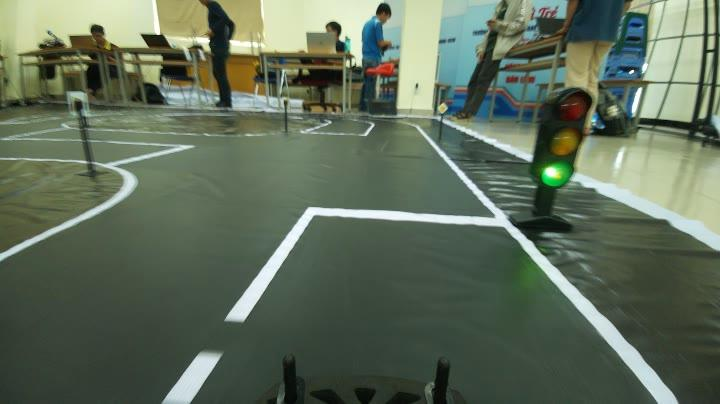trafficlight: (518, 85, 595, 198)
